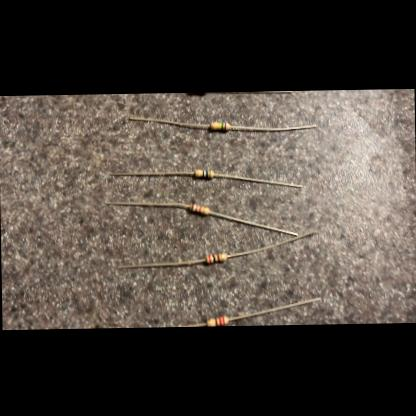resistor: (187, 202, 208, 214), (205, 314, 229, 324), (206, 252, 226, 264), (209, 120, 230, 130), (194, 167, 214, 177)
wire: (210, 208, 297, 236), (228, 228, 315, 256), (229, 296, 321, 320), (214, 170, 301, 188), (117, 256, 205, 268), (130, 115, 210, 127), (104, 199, 188, 206), (231, 124, 316, 130), (110, 170, 193, 174), (178, 322, 206, 326)
